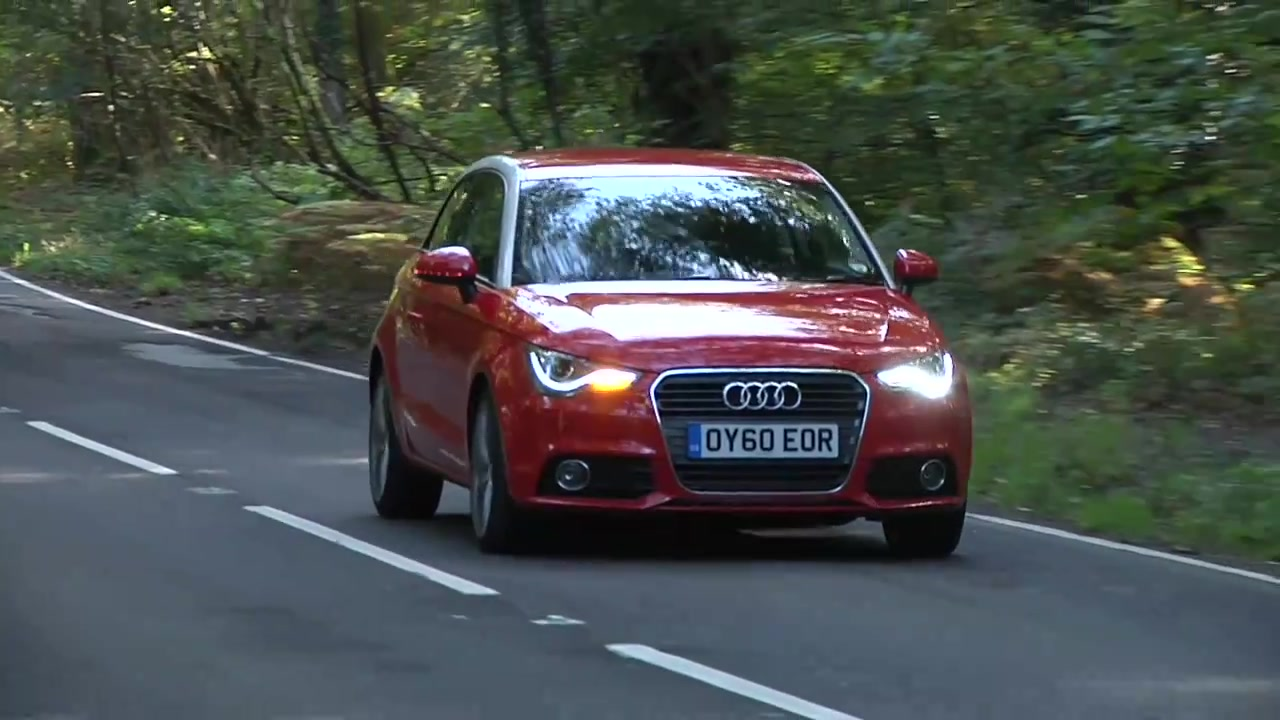car: (356, 151, 979, 562)
